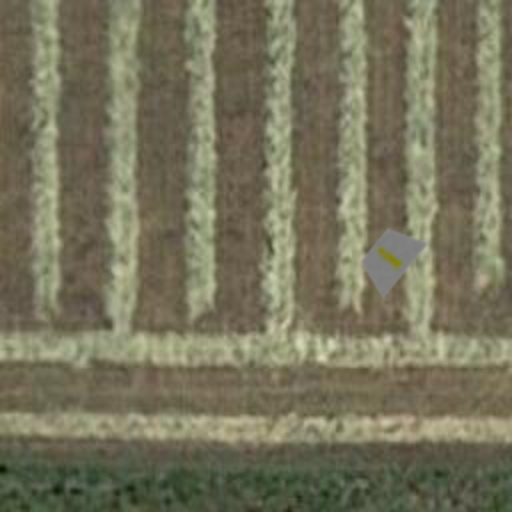trapezoid: (340, 208, 440, 308)
